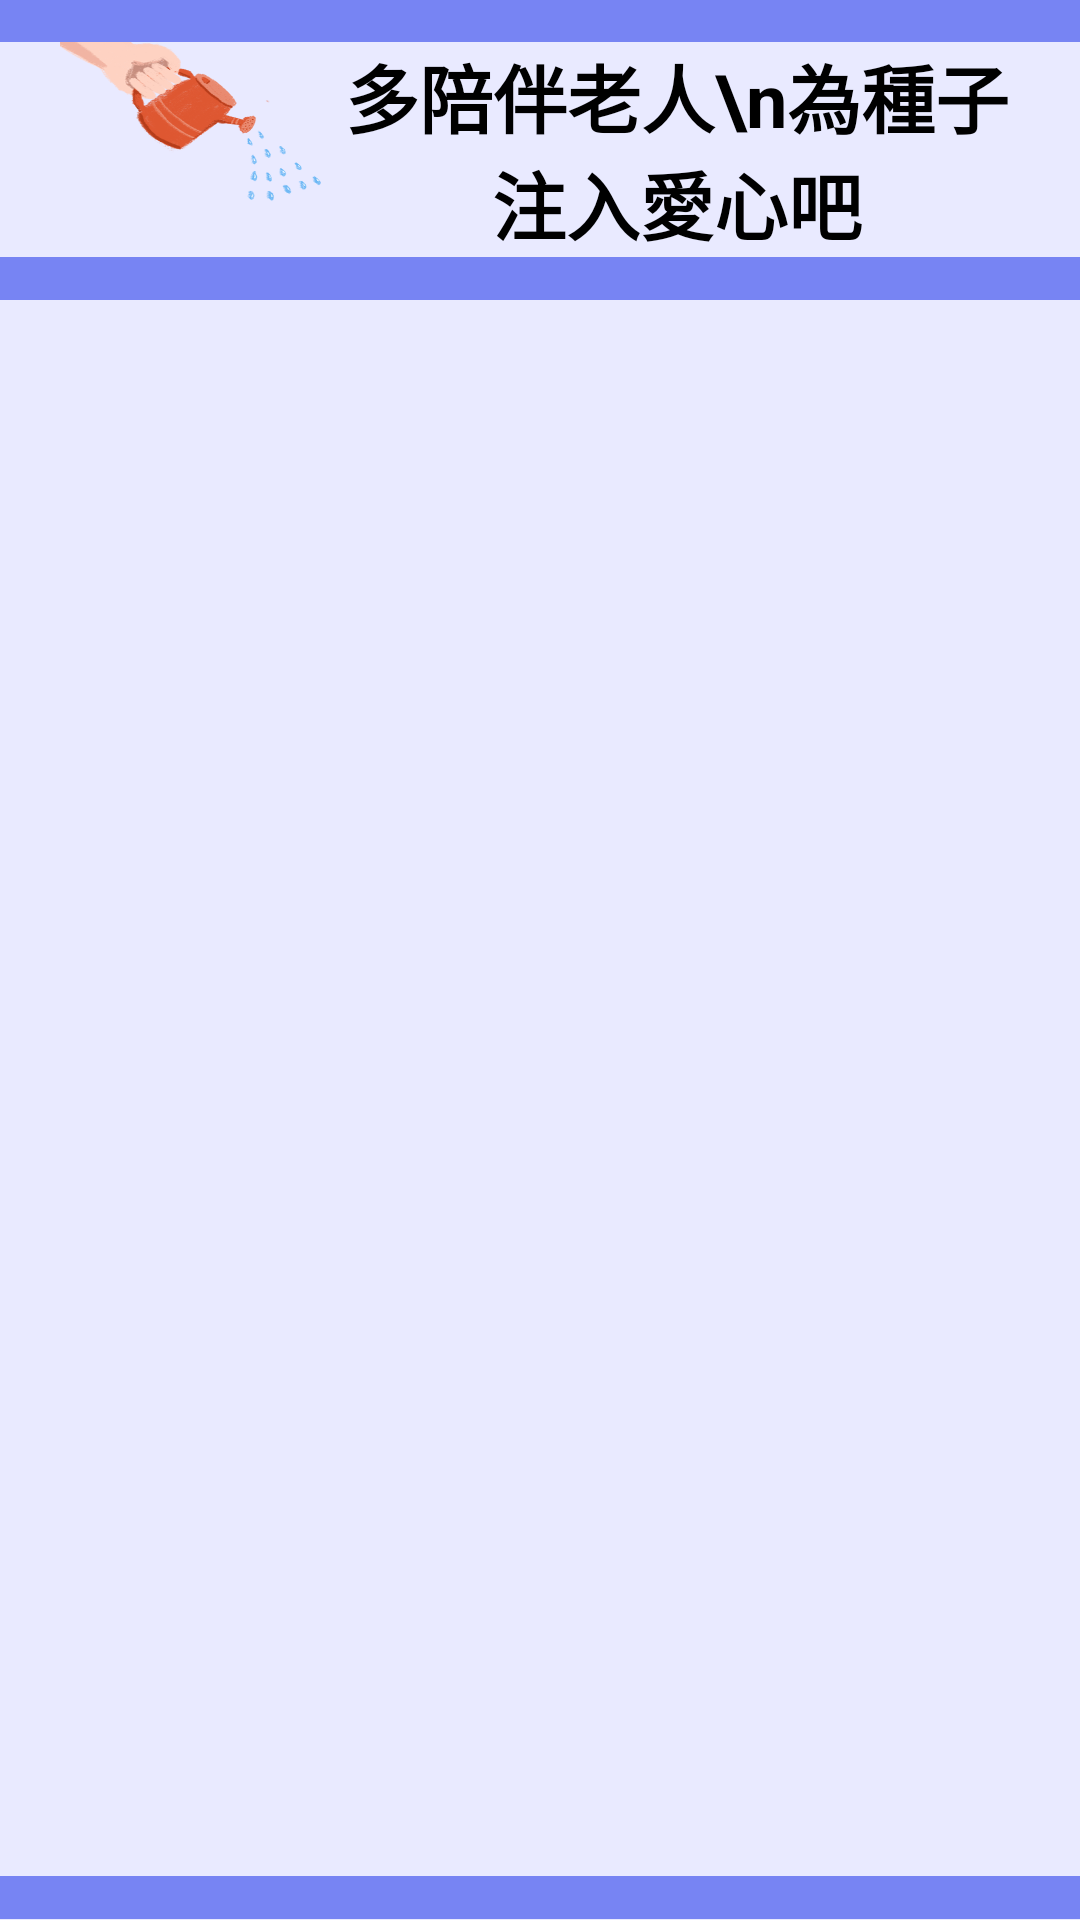

Screen size 1080*1920. Icon name, then its box in pixels as Rect(x1, y1, x2, y2):
water: Rect(60, 42, 321, 201)
